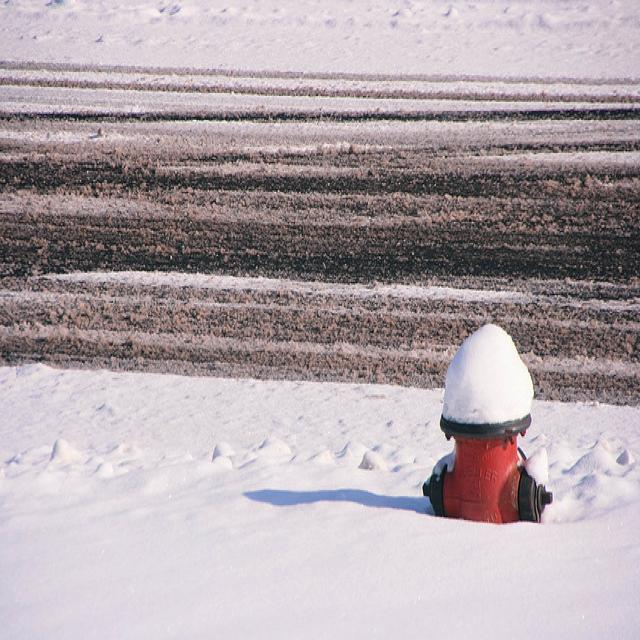fire_hydrant: (423, 322, 556, 523)
